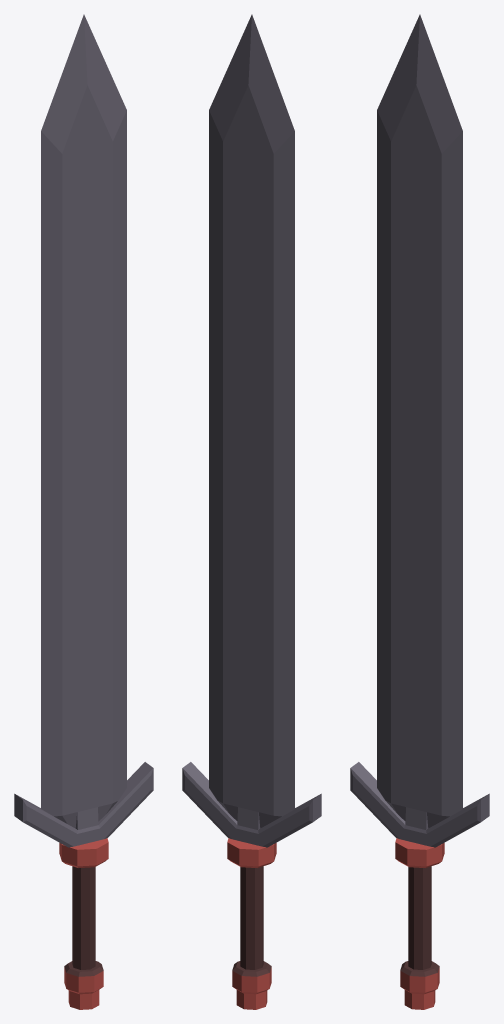
The picture shows the model from 3 angles, left to right: view 1: azimuth 30°, elevation 25°; view 2: azimuth 150°, elevation 25°; view 3: azimuth 330°, elevation 25°; orthographic projection.
Size of the model in its own units: 0.1381 by 1 by 0.0469.
